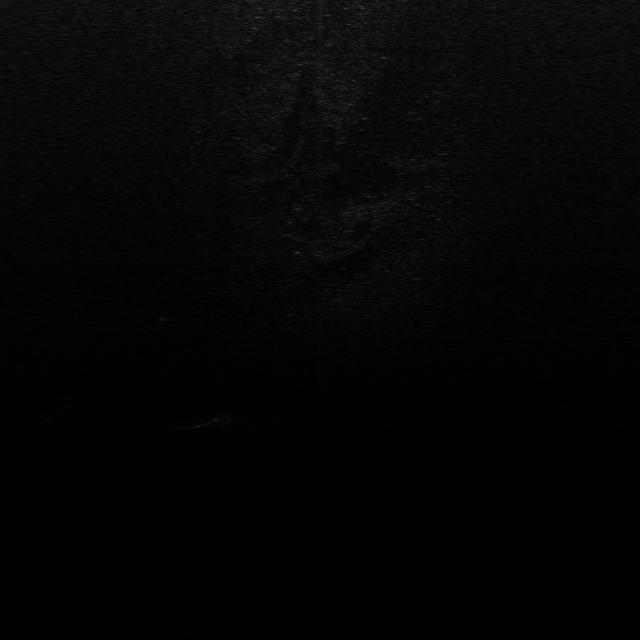ball: (202, 407, 238, 429)
circle cage: (150, 304, 180, 327)
tyre: (37, 397, 78, 423)
